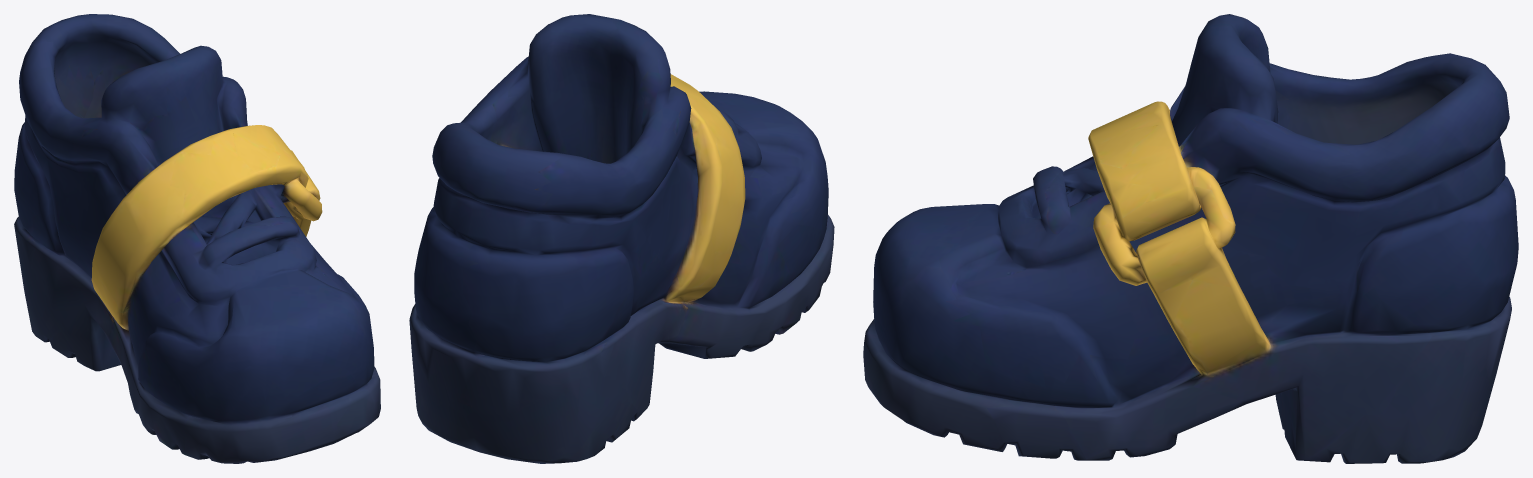
The model's file is shoe-lifter.glb.
The picture shows the model from 3 angles, left to right: view 1: azimuth 30°, elevation 25°; view 2: azimuth 150°, elevation 25°; view 3: azimuth 270°, elevation 25°; orthographic projection. The views are drawn at different scales.
Visible parts, largest first — view 1: shoe-lifter; view 2: shoe-lifter; view 3: shoe-lifter.
Part boxes in pixels (x1,y1,x2,y2): shoe-lifter: [14, 14, 380, 463]; shoe-lifter: [409, 14, 834, 463]; shoe-lifter: [863, 14, 1518, 463].
Size of the model in its own units: 0.4522 by 0.6641 by 1.
1 material, 1 textured.
